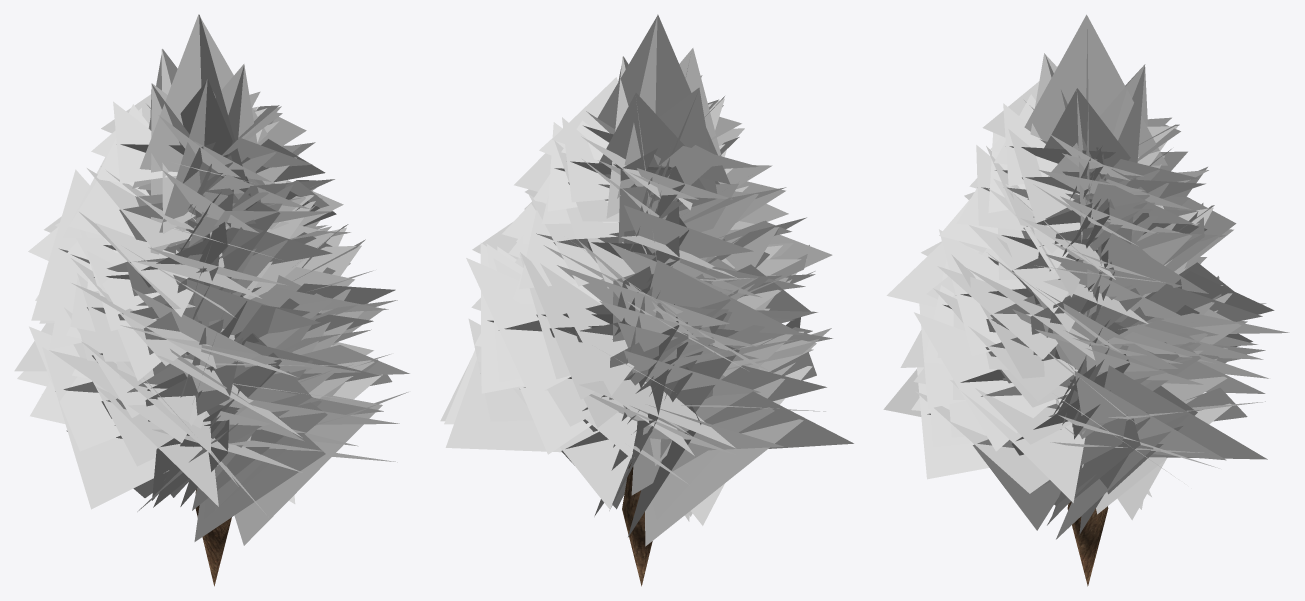
The picture shows the model from 3 angles, left to right: view 1: azimuth 30°, elevation 25°; view 2: azimuth 150°, elevation 25°; view 3: azimuth 270°, elevation 25°; orthographic projection. The views are drawn at different scales.
Parts seen in each view (by area): view 1: tree_LOD0; view 2: tree_LOD0; view 3: tree_LOD0.
Part boxes in pixels (box(x1,y1,x2,y2)): tree_LOD0: box(14, 14, 409, 586); tree_LOD0: box(440, 14, 853, 586); tree_LOD0: box(883, 14, 1289, 586).
Size of what is drawn, in the model's own units: 1558 by 2497 by 1631.
